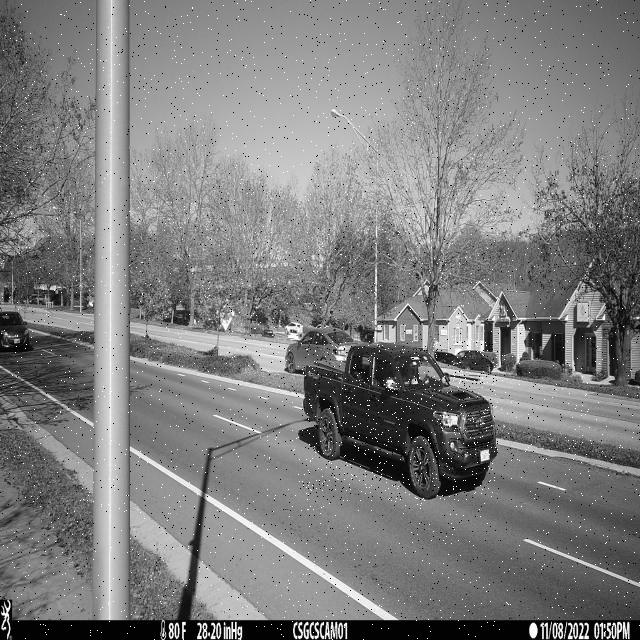Pickup: (302, 341, 498, 501)
